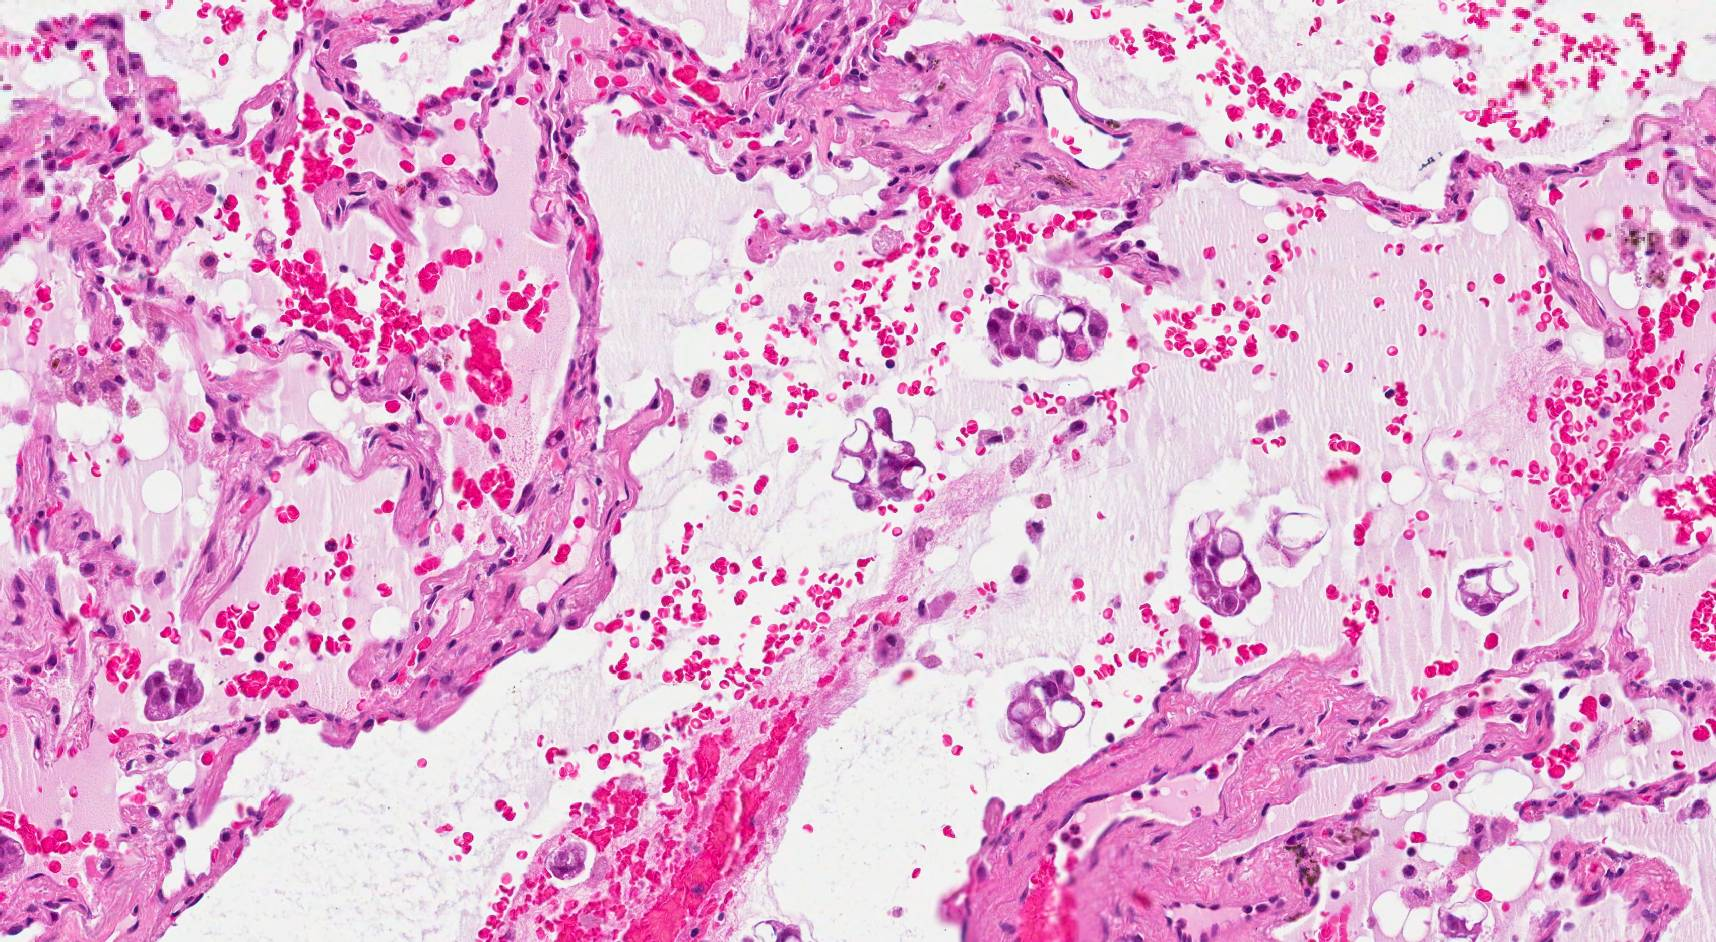stas: (983, 273, 1109, 372), (829, 404, 930, 511), (1179, 509, 1266, 618), (993, 665, 1090, 758), (1454, 551, 1530, 624), (136, 659, 209, 725), (543, 837, 596, 891)
